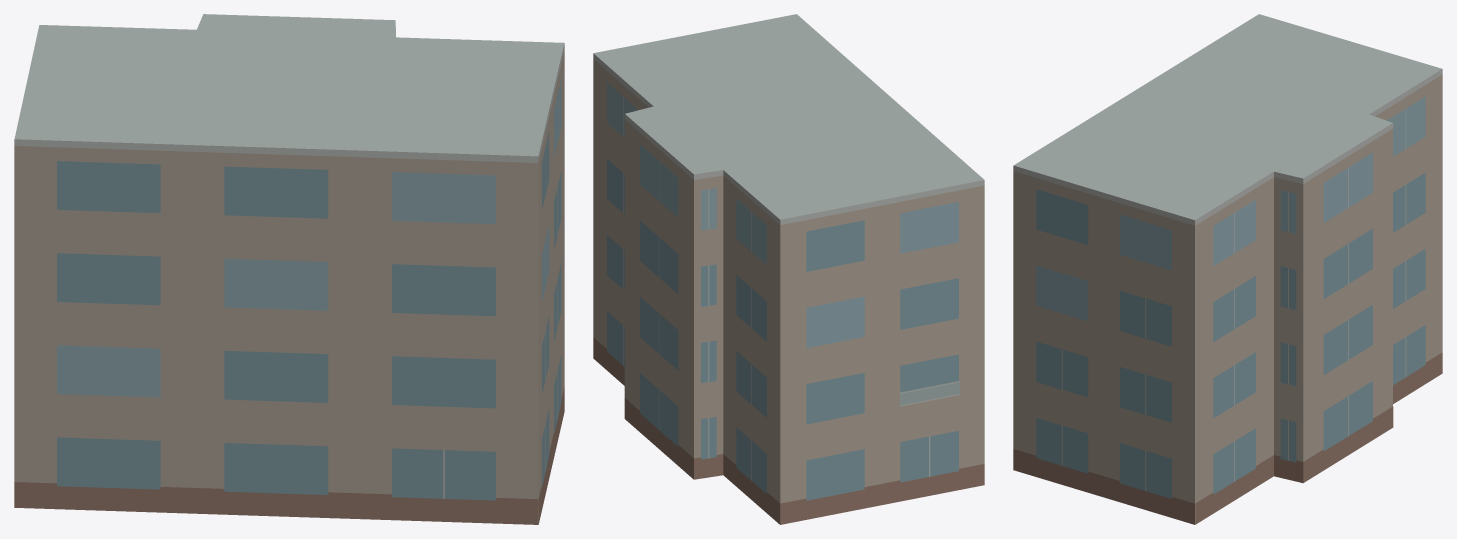
File: survey-upis-32965732.glb
3 renders of one model, left to right at view 1: azimuth 30°, elevation 25°; view 2: azimuth 150°, elevation 25°; view 3: azimuth 270°, elevation 25°, orthographic. The views are drawn at different scales.
Parts seen in each view (by area): view 1: survey-upis-32965732.tmp; view 2: survey-upis-32965732.tmp; view 3: survey-upis-32965732.tmp.
Part boxes in pixels (x1,y1,x2,y2): survey-upis-32965732.tmp: [14, 14, 564, 524]; survey-upis-32965732.tmp: [593, 14, 984, 524]; survey-upis-32965732.tmp: [1013, 14, 1442, 524].
Bounding box in the file's own units: 19.54 × 13.45 × 17.18.
